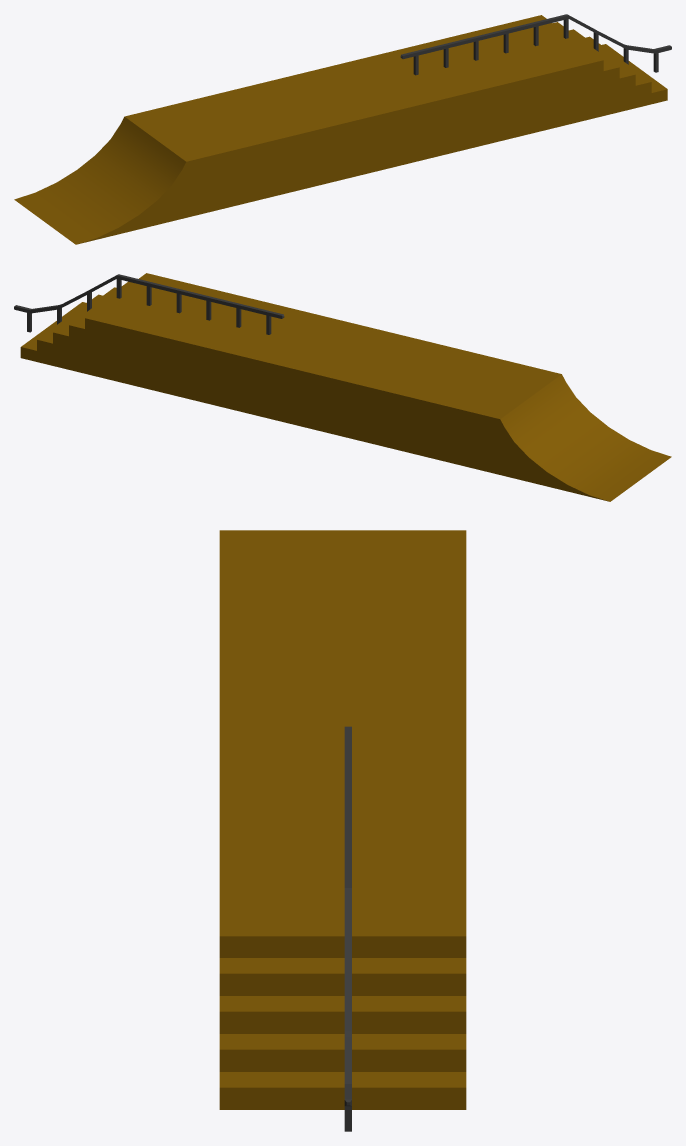
File: RailRampStairs.fbx
The picture shows the model from 3 angles, top to bottom: view 1: azimuth 30°, elevation 25°; view 2: azimuth 150°, elevation 25°; view 3: azimuth 270°, elevation 25°; orthographic projection. The views are drawn at different scales.
Visible parts, largest first — view 1: RailRampStairs; view 2: RailRampStairs; view 3: RailRampStairs.
Part boxes in pixels (x1,y1,x2,y2): RailRampStairs: (14, 14, 671, 244); RailRampStairs: (14, 273, 671, 501); RailRampStairs: (219, 530, 466, 1131).
Size of the model in its own units: 1172 by 140 by 200.
